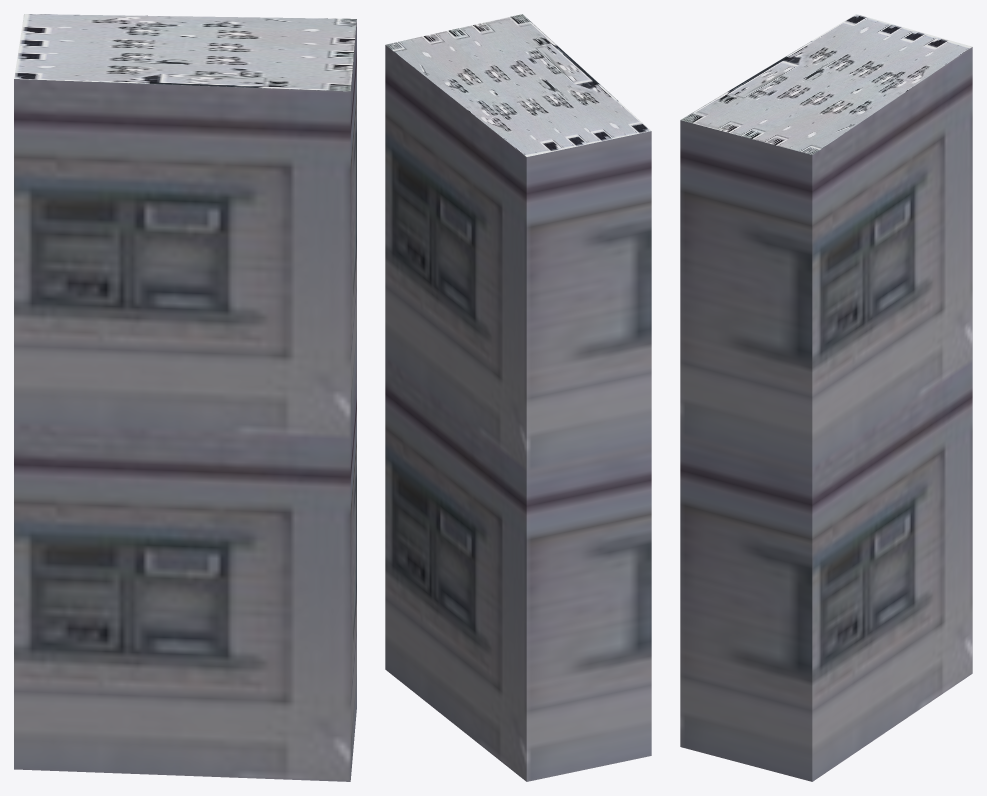
The model's file is ResTex__4594.fbx.
3 renders of one model, left to right at view 1: azimuth 30°, elevation 25°; view 2: azimuth 150°, elevation 25°; view 3: azimuth 270°, elevation 25°, orthographic. The views are drawn at different scales.
Visible parts, largest first — view 1: CityEngineMaterial_1_m, CityEngineMaterial_m; view 2: CityEngineMaterial_1_m, CityEngineMaterial_m; view 3: CityEngineMaterial_1_m, CityEngineMaterial_m.
Part boxes in pixels (x1=…): CityEngineMaterial_1_m: x1=14, y1=19, x2=356, y2=781; CityEngineMaterial_m: x1=14, y1=14, x2=356, y2=91; CityEngineMaterial_1_m: x1=385, y1=45, x2=651, y2=781; CityEngineMaterial_m: x1=385, y1=14, x2=650, y2=156; CityEngineMaterial_1_m: x1=680, y1=47, x2=972, y2=781; CityEngineMaterial_m: x1=680, y1=14, x2=972, y2=154.
Bounding box in the file's own units: 2.9 × 6 × 2.54.
Materials: 2 (2 with a texture image).
